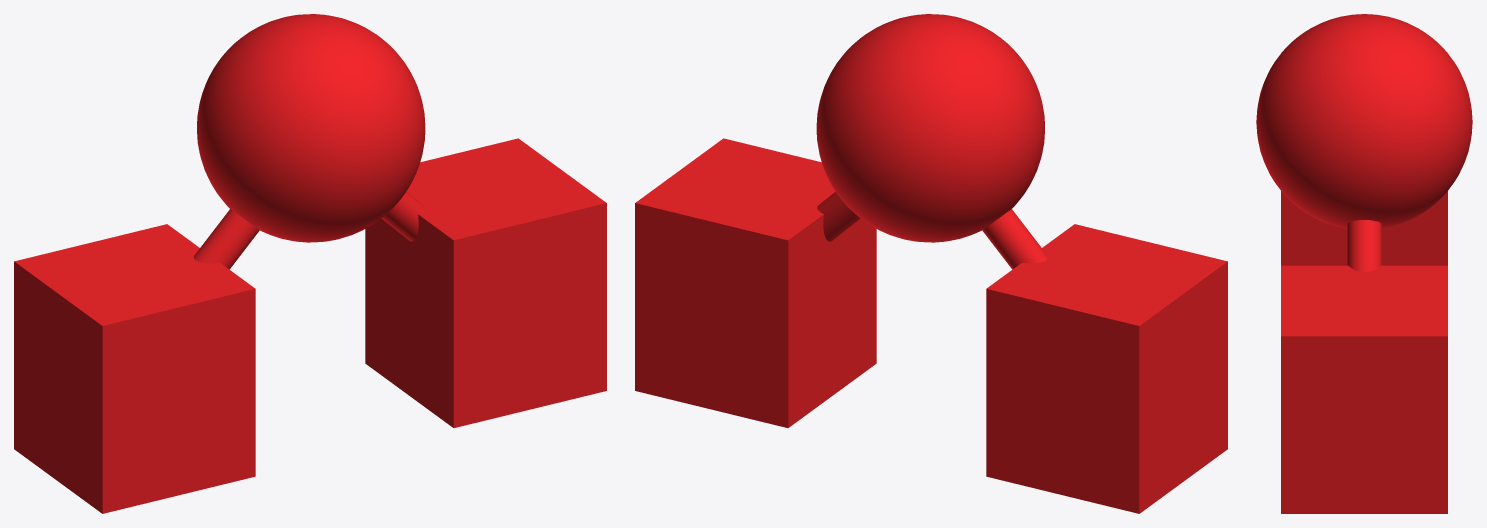
File: PrimitiveMolecule.fbx
3 views of the same model, side by side, from view 1: azimuth 30°, elevation 25°; view 2: azimuth 150°, elevation 25°; view 3: azimuth 270°, elevation 25° (orthographic). The views are drawn at different scales.
Visible parts, largest first — view 1: node_id69 (×5); view 2: node_id69 (×5); view 3: node_id69 (×4).
Part boxes in pixels (bbox=[...]): node_id69 (×5): bbox=[14, 14, 606, 513]; node_id69 (×5): bbox=[635, 14, 1227, 513]; node_id69 (×4): bbox=[1256, 14, 1472, 513].
Size of the model in its own units: 0.1864 by 0.1396 by 0.0732.
Materials: 5 (5 with a texture image).
